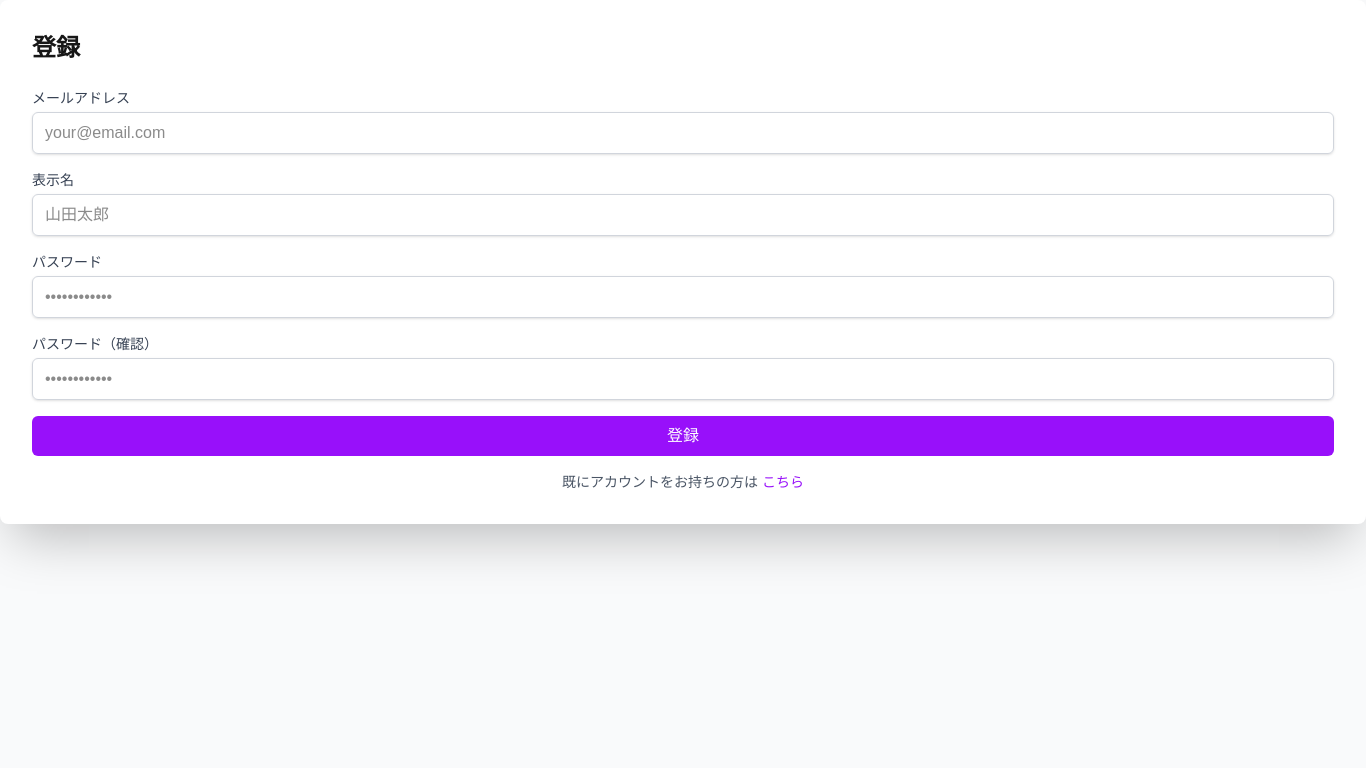
Test case: RegisterPageClient › フォーム送信 › エラー時にエラーメッセージが表示される（バリデーションエラー）
Step 1. Type "既存ユーザー" into the field labelled "表示名" → (683, 215), box [32,194,1334,236]
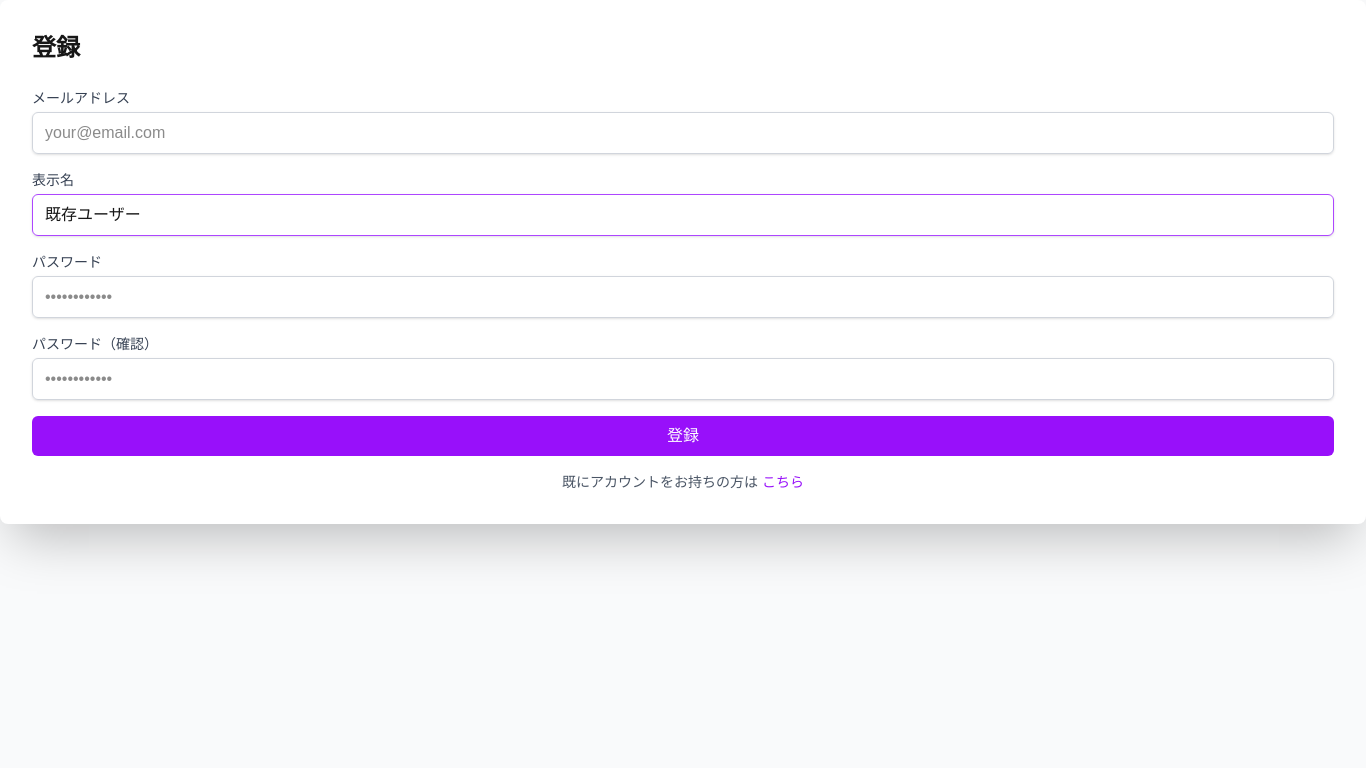
Step 2. Type "existing@example.com" into the field labelled "メールアドレス" → (683, 133), box [32,112,1334,154]
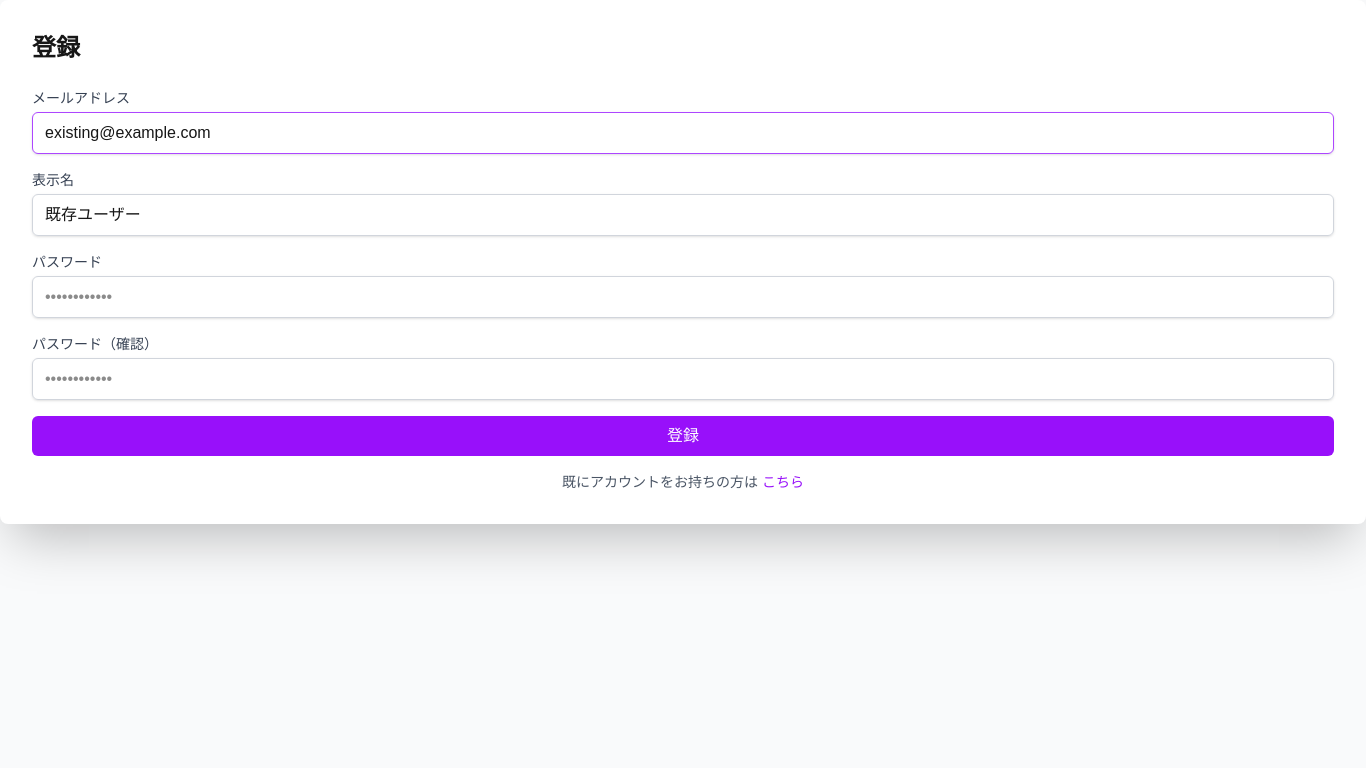
Step 3. Type "Password123!" into the password field labelled "パスワード" → (683, 297), box [32,276,1334,318]
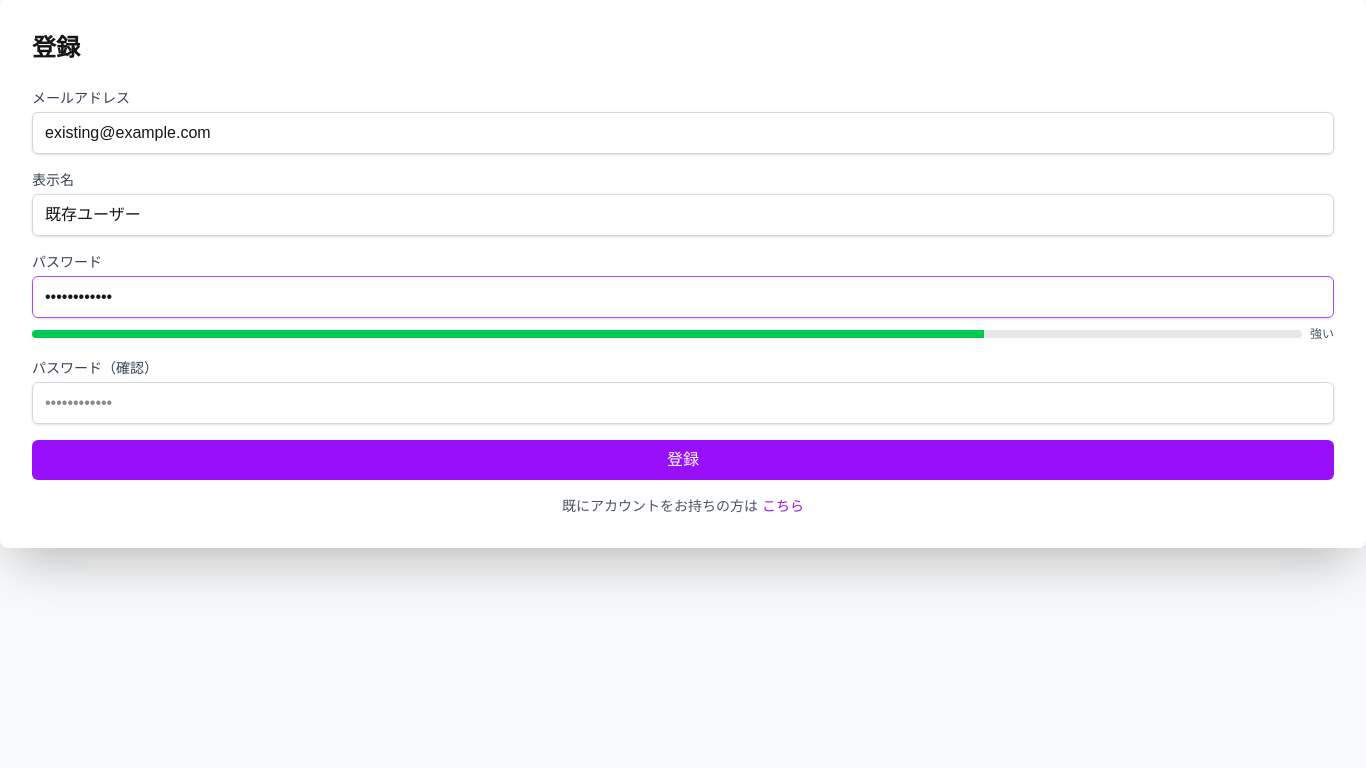
Step 4. Type "Password123!" into the password field labelled "パスワード（確認）" → (683, 403), box [32,382,1334,424]
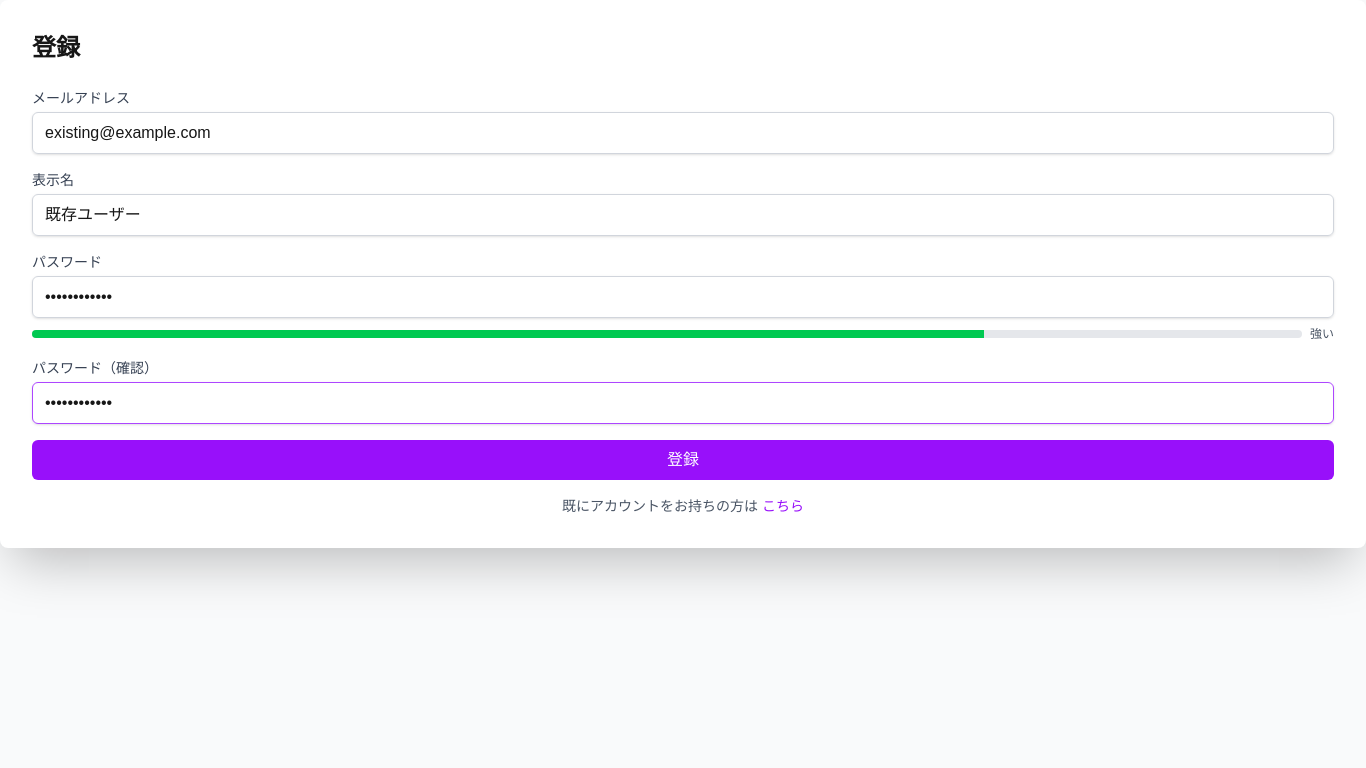
Step 5. Click the button "登録" → click(683, 460), box [32,440,1334,480]
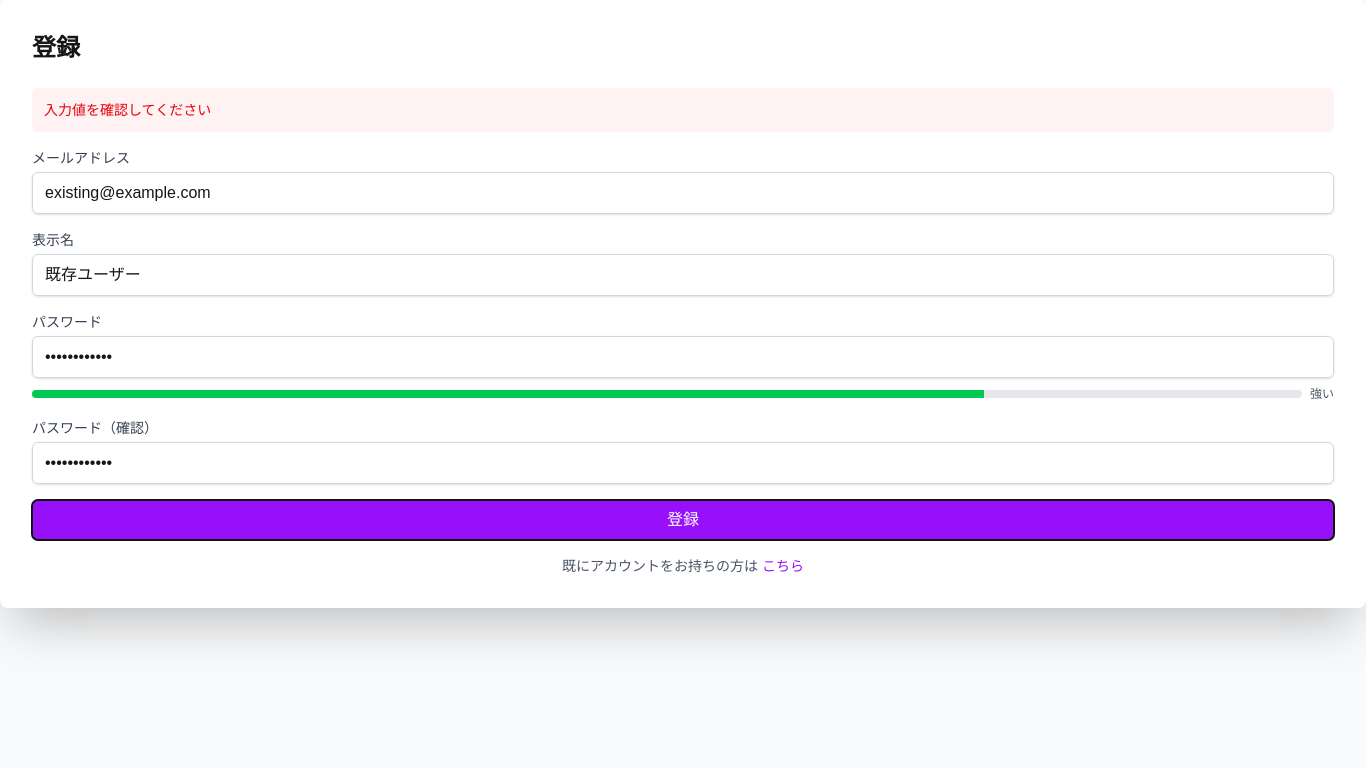
Check: the text "入力値を確認してください" is shown, box [32,88,1334,132]
